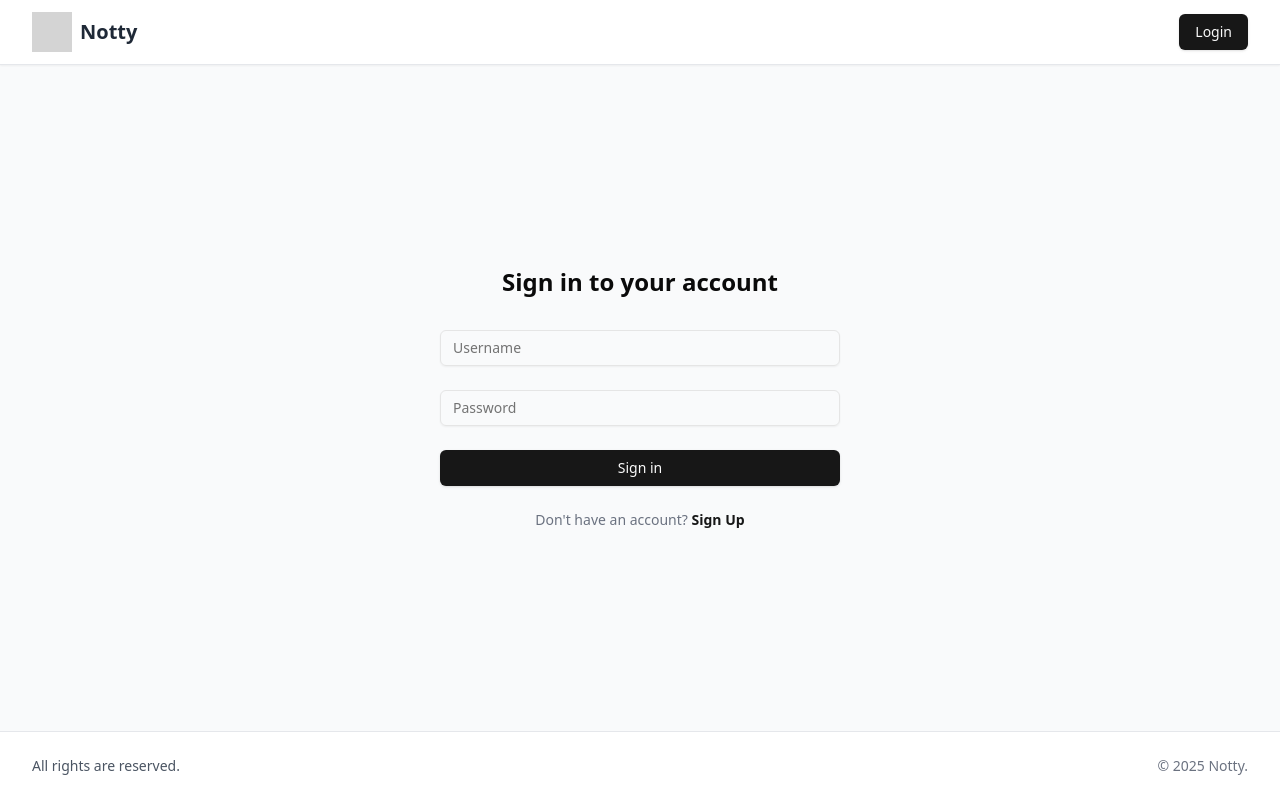
it: Login test › should fail log in
Type "mourya" into the field named "username".
click(640, 348); type("mourya")  # box [440,330,840,366]
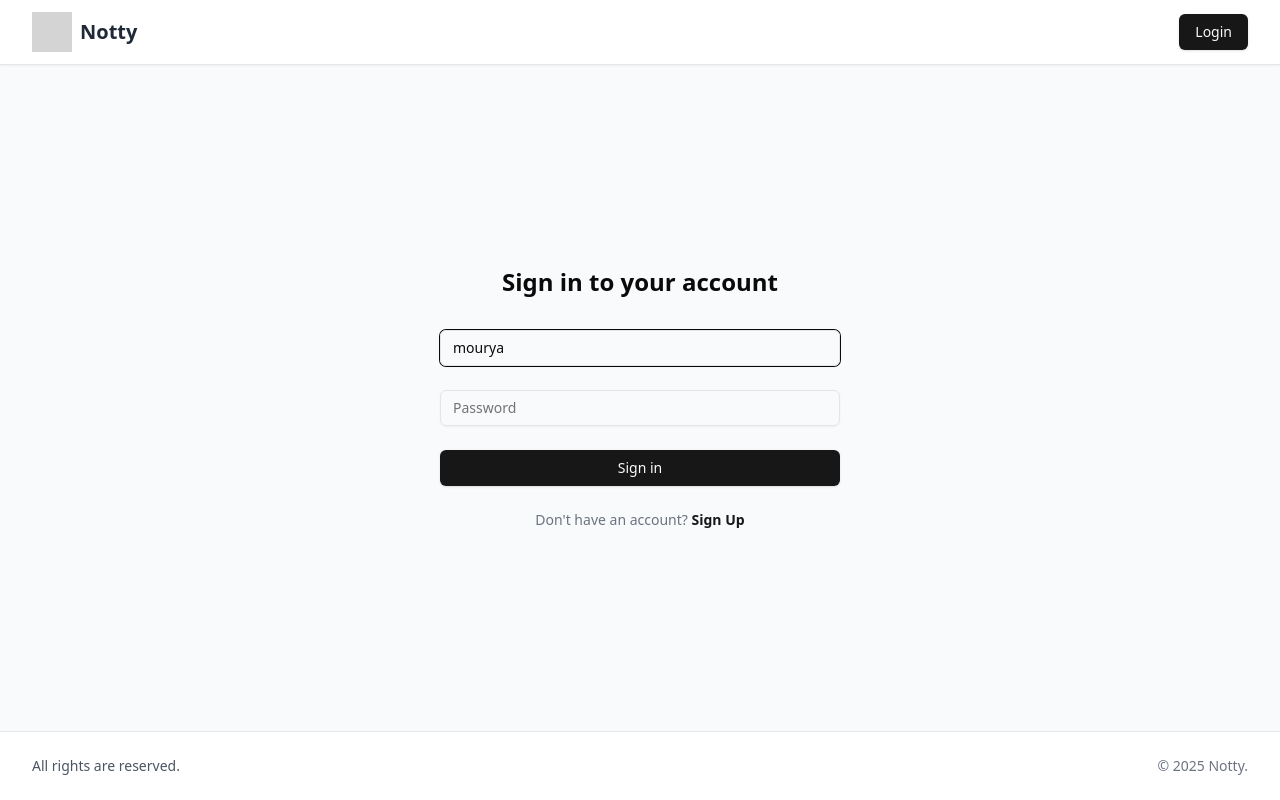
Type "park" into the password field named "password".
click(640, 408); type("park")  # box [440,390,840,426]
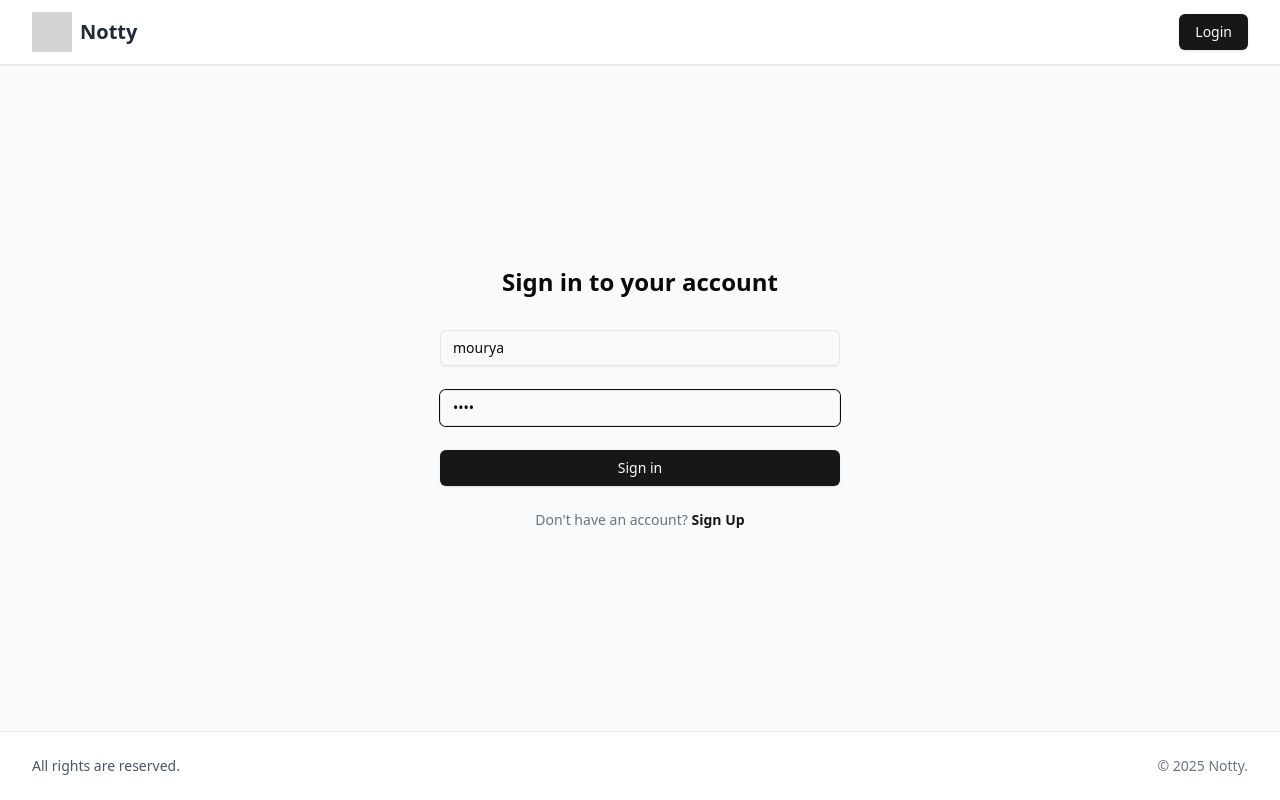
Click the submit button.
click(640, 468)  # box [440,450,840,486]
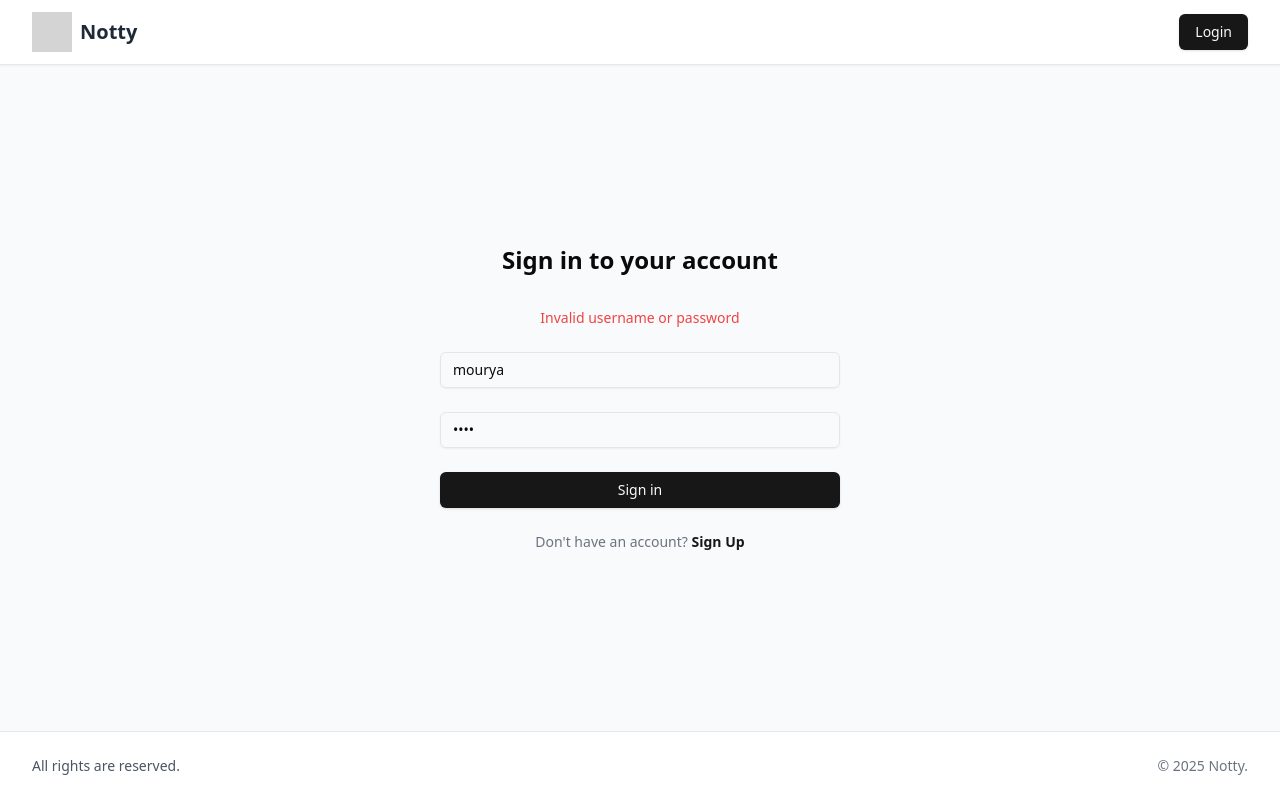
Result: the text "Invalid username or password" is shown at [540,308,740,326]
